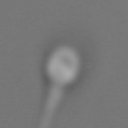normal: (31, 83, 76, 128)
